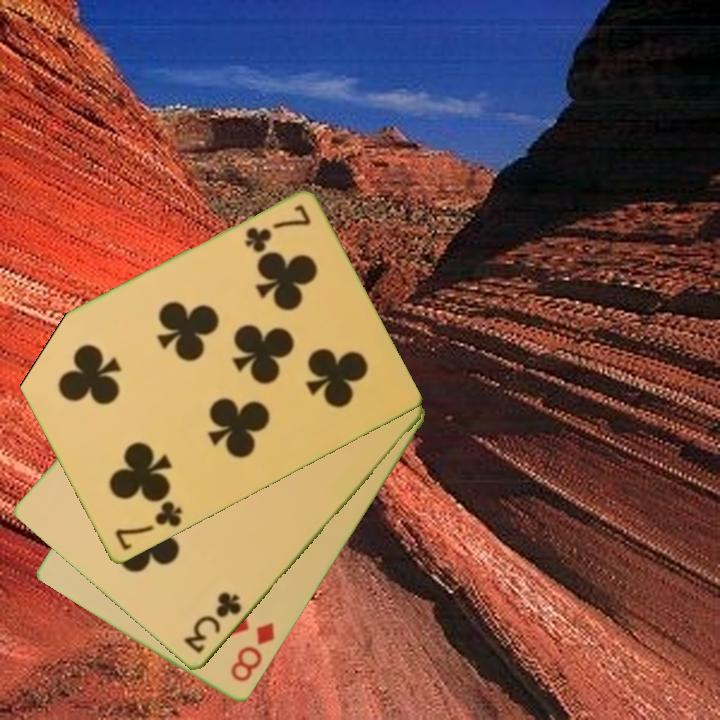3c: (180, 588, 245, 657)
7c: (111, 498, 186, 554), (240, 201, 314, 256)
8d: (227, 619, 278, 686)
